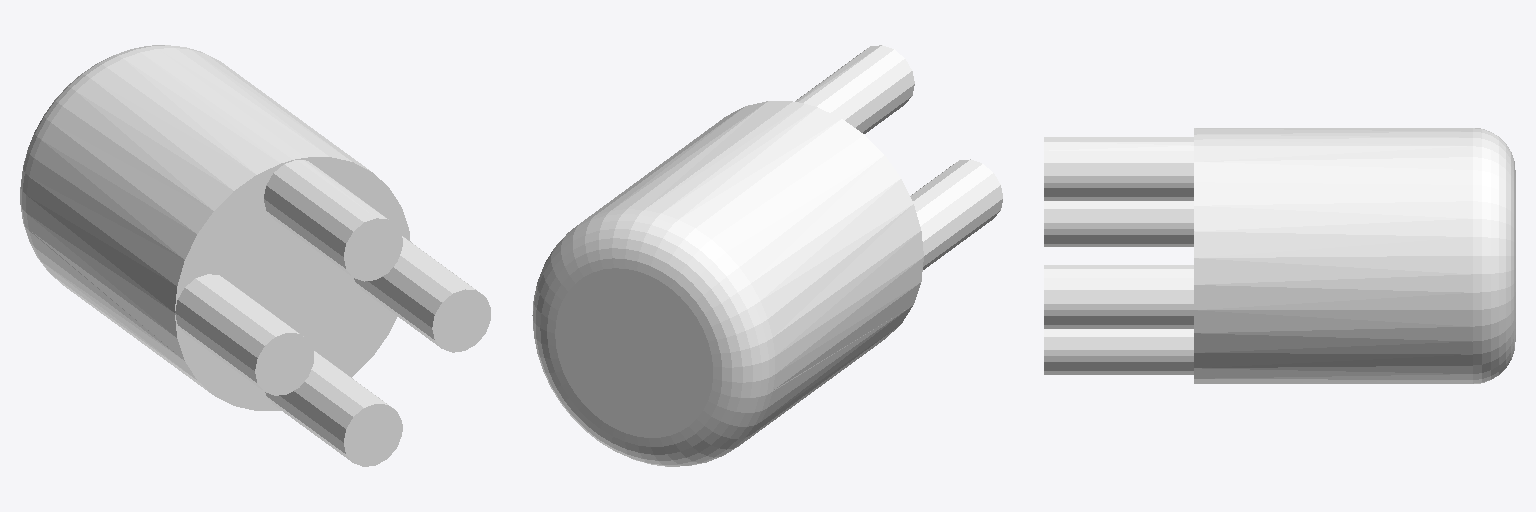
The robot description file, URDF, robot "ye_hua":
<robot
  name="ye_hua">
  <link
    name="ye_hua">
    <inertial>
      <origin
        xyz="7.253E-17 -0.87808 1.33782117358218E-16"
        rpy="0 0 0" />
      <mass
        value="1864.4" />
      <inertia
        ixx="689.150202331606"
        ixy="-1.59358918134346E-13"
        ixz="6.93602936863289E-14"
        iyy="337.927338781252"
        iyz="1.62165952142697E-13"
        izz="689.150202331606" />
    </inertial>
    <visual>
      <origin
        xyz="0 0 0"
        rpy="1.5707963267949 0 0" />
      <geometry>
        <mesh
          filename="package://ye_hua/meshes/ye_hua.STL" />
      </geometry>
      <material
        name="">
        <color
          rgba="1 1 1 1" />
      </material>
    </visual>
    <collision>
      <origin
        xyz="0 0 0"
        rpy="1.5707963267949 0 0" />
      <geometry>
        <mesh
          filename="package://ye_hua/meshes/ye_hua.STL" />
      </geometry>
    </collision>
  </link>
</robot>

--- Render facts (derived) ---
The picture shows the robot from 3 angles, left to right: view 1: azimuth 30°, elevation 25°; view 2: azimuth 150°, elevation 25°; view 3: azimuth 270°, elevation 25°; orthographic projection.
Robot: ye_hua — 1 links, 0 joints (none); root link ye_hua; default pose: every joint at zero.
Links seen in each view (by area): view 1: ye_hua; view 2: ye_hua; view 3: ye_hua.
Boxes of the visible links, x1,y1,x2,y2 form: ye_hua: [20, 45, 490, 466]; ye_hua: [532, 45, 1002, 466]; ye_hua: [1044, 128, 1515, 383].
Size in the robot's own frame: 1.2 by 2.2 by 1.2 metres.
Meshes: 1 distinct files referenced, 1 mesh visuals loaded (1 binary STL).
